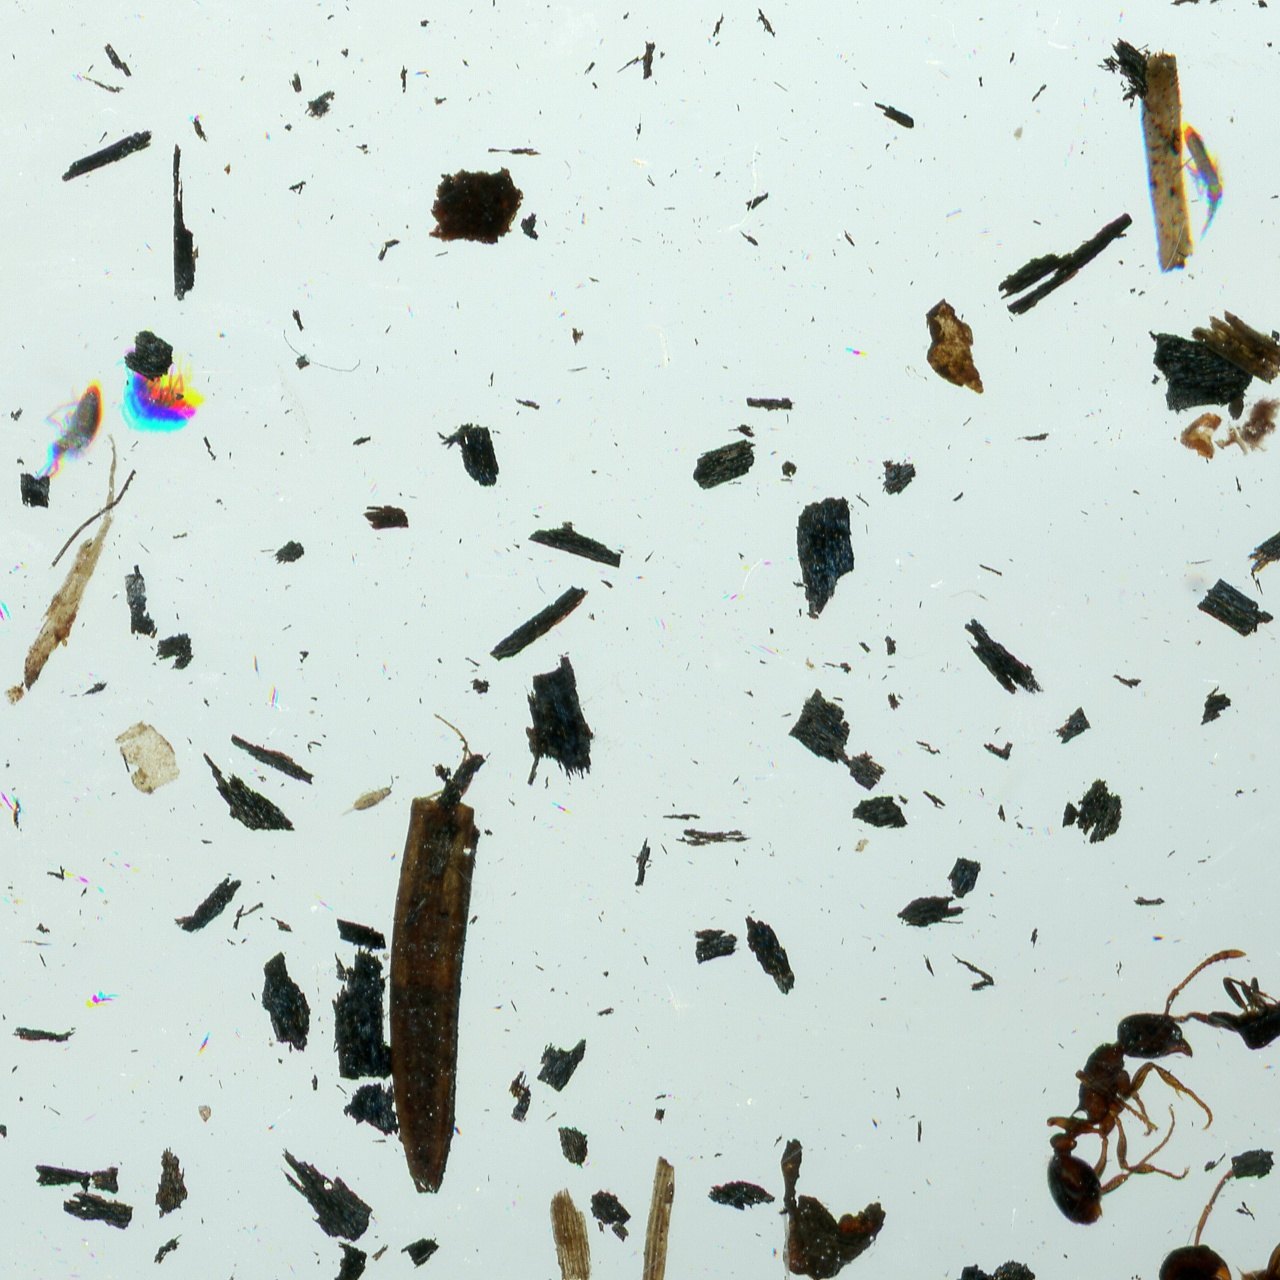arthropod: (1039, 932, 1257, 1241), (1100, 1168, 1280, 1280), (1155, 104, 1242, 243), (31, 370, 113, 489), (116, 338, 211, 436), (1207, 959, 1280, 1052), (328, 771, 406, 830)
